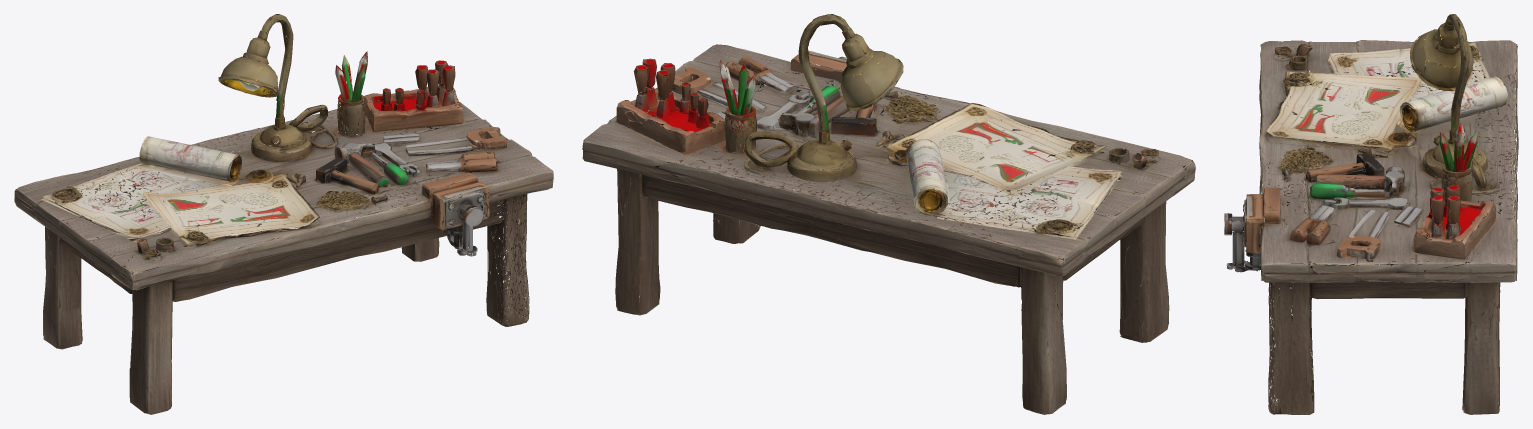
Rendered from Workbench.fbx.
3 views of the same model, side by side, from view 1: azimuth 30°, elevation 25°; view 2: azimuth 150°, elevation 25°; view 3: azimuth 270°, elevation 25° (orthographic). The views are drawn at different scales.
Visible parts, largest first — view 1: Workbench; view 2: Workbench; view 3: Workbench.
Part boxes in pixels (x1=…): Workbench: x1=14, y1=14, x2=553, y2=414; Workbench: x1=582, y1=14, x2=1195, y2=414; Workbench: x1=1224, y1=14, x2=1518, y2=414.
Bounding box in the file's own units: 140 × 90 × 77.46.
Materials: 1 (1 with a texture image).
